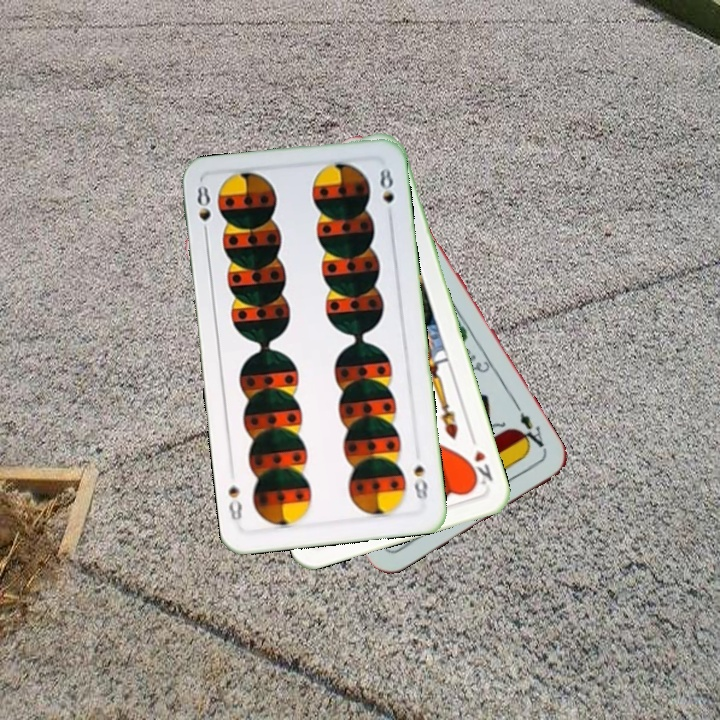EA: (512, 401, 550, 455)
HK: (464, 446, 496, 488)
S8: (192, 181, 214, 241), (410, 460, 431, 503)
